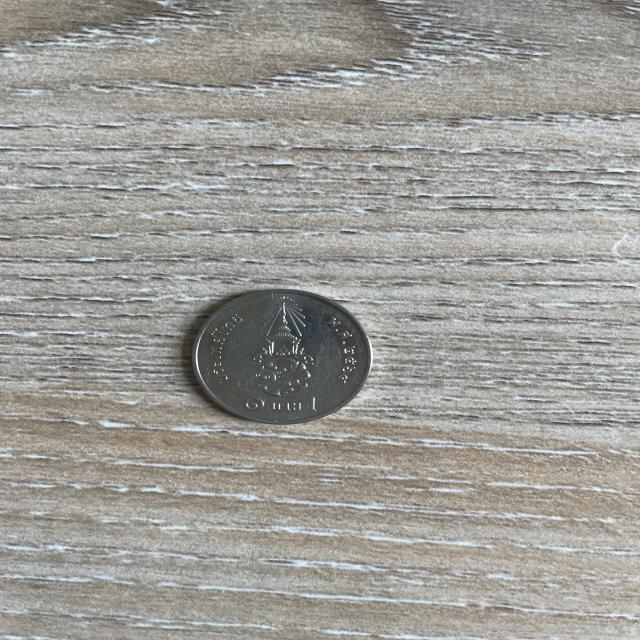1 Bath: (164, 275, 388, 435)
